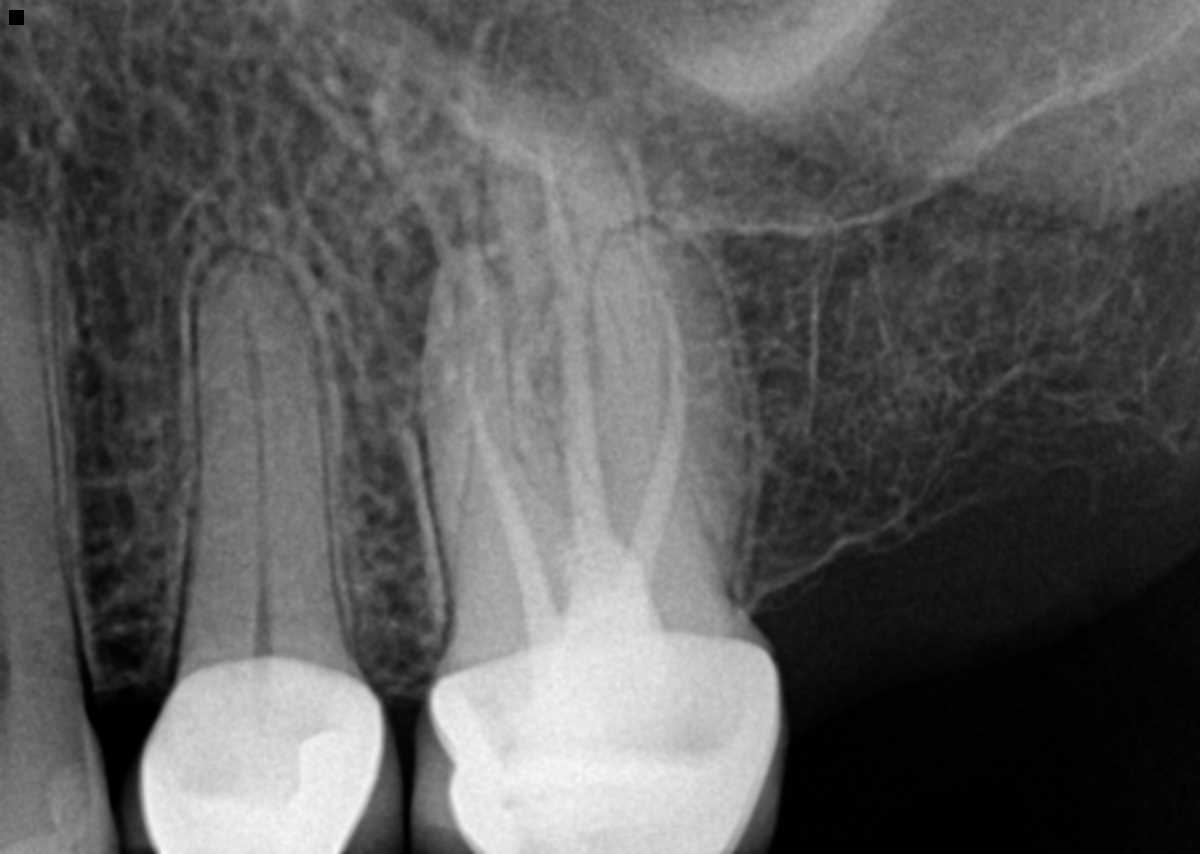Apical Lesion: (367, 180, 498, 345), (470, 0, 644, 103)
Distal Root: (588, 225, 747, 612)
Main Canal: (241, 307, 275, 656)
Main Root: (175, 246, 348, 672), (0, 223, 82, 676)
Mesial Root: (422, 244, 599, 679)
Palatal Root: (453, 63, 738, 668)
Root Canal Filling: (534, 129, 620, 569), (468, 346, 558, 643), (615, 276, 687, 590)
